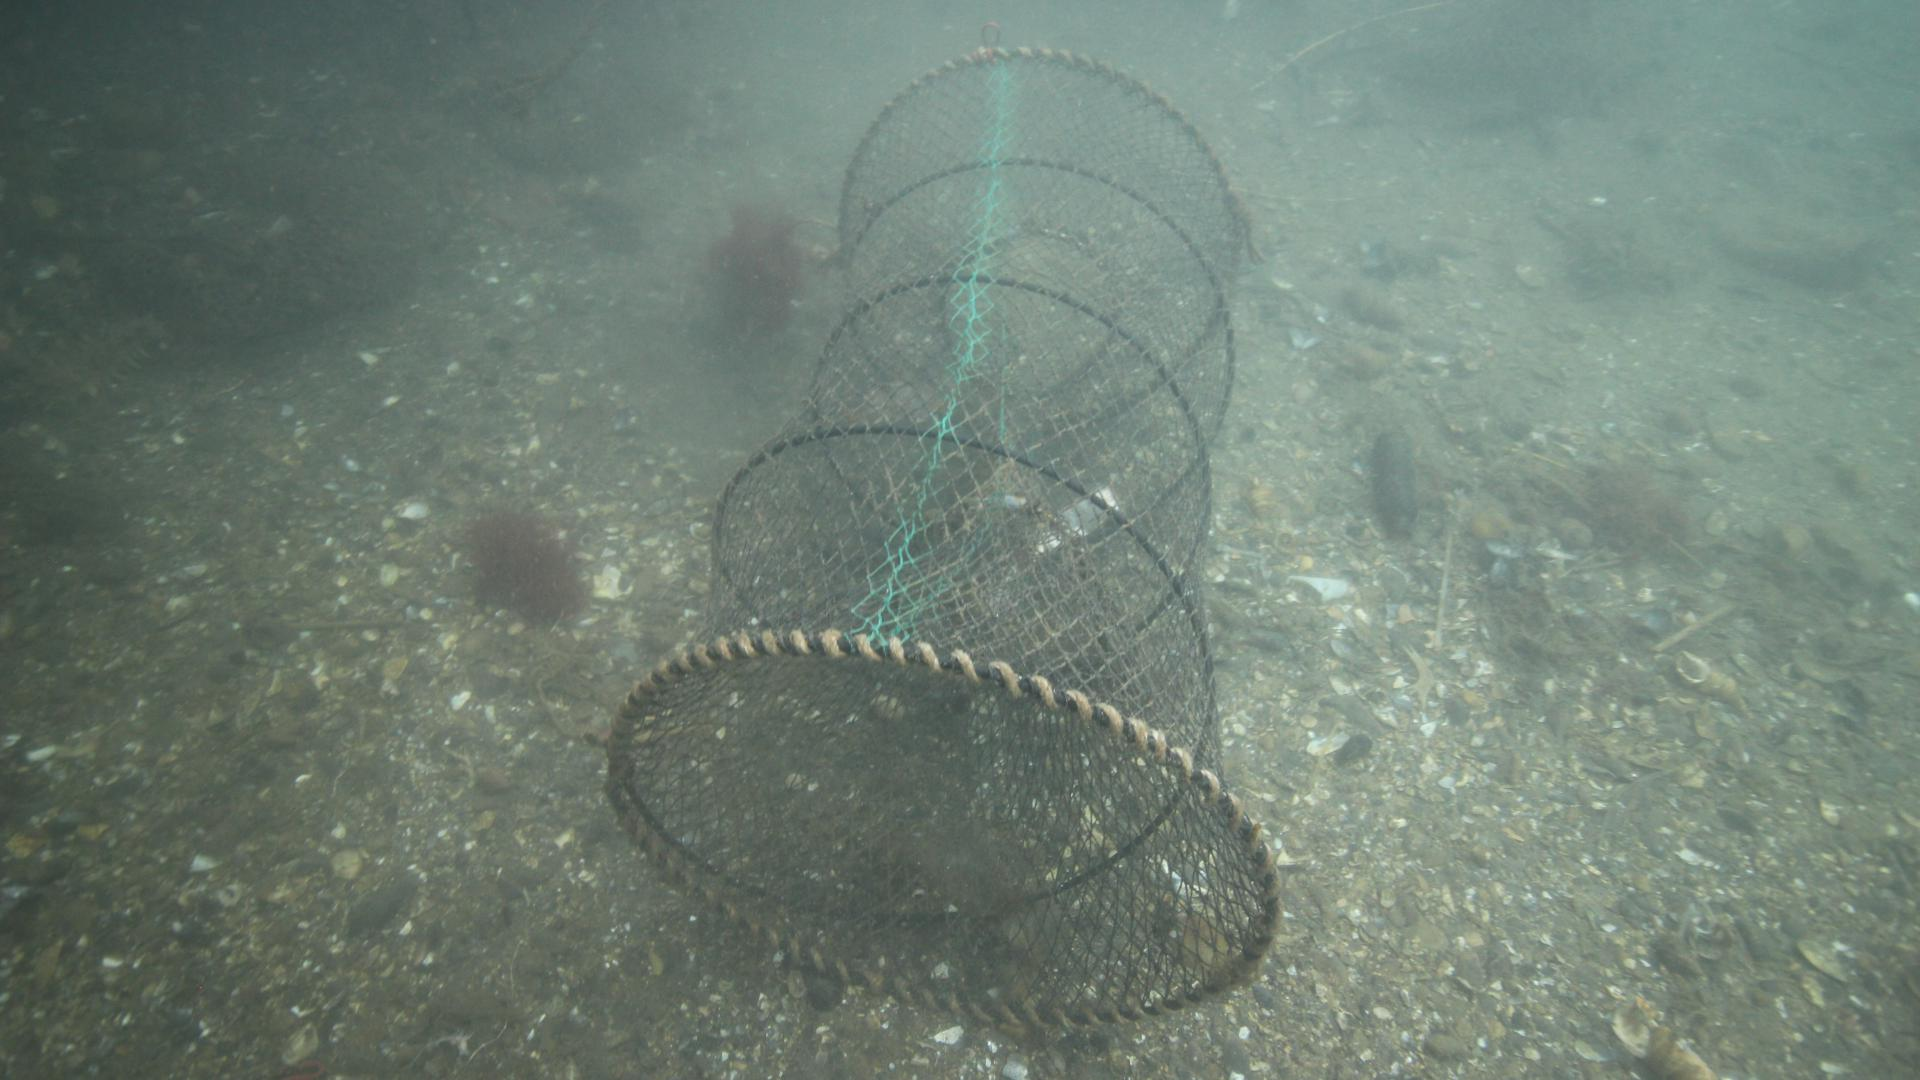spring fish trap: (604, 40, 1280, 1036)
